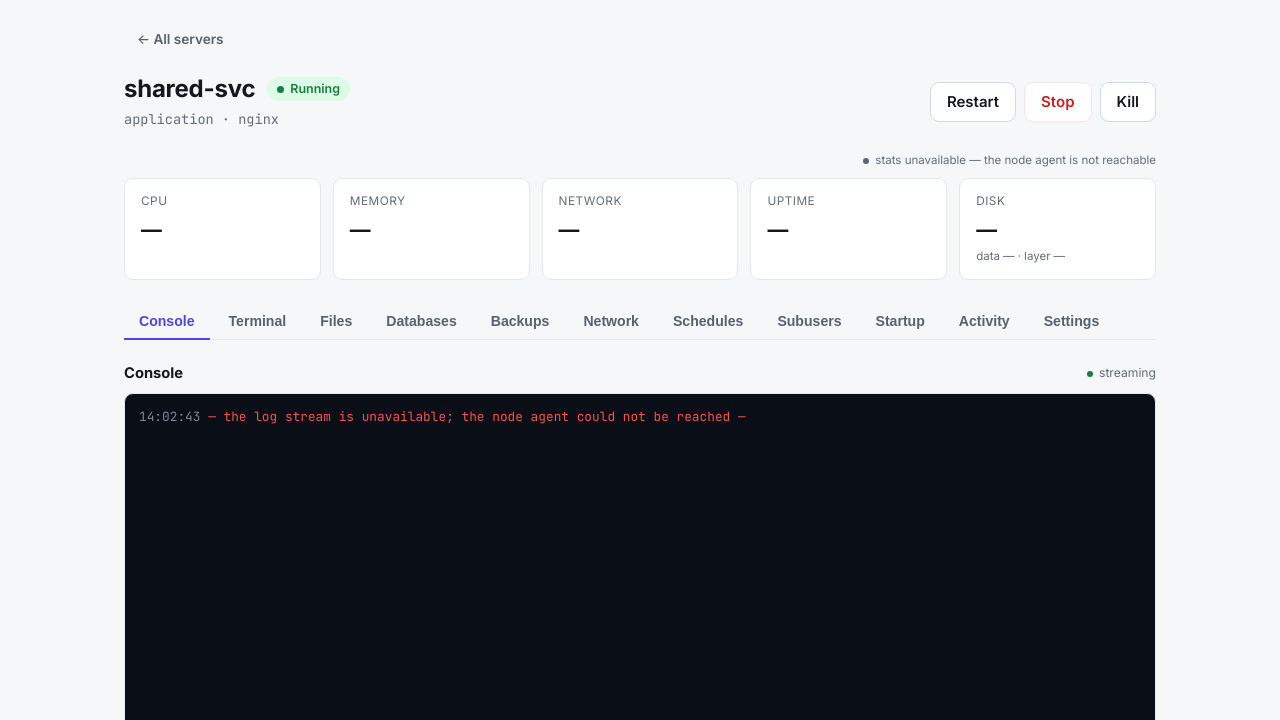
ServerDetail Activity tab › says so when nothing has happened yet
Click the button "activity" at x=984, y=322, box [944, 304, 1025, 340]
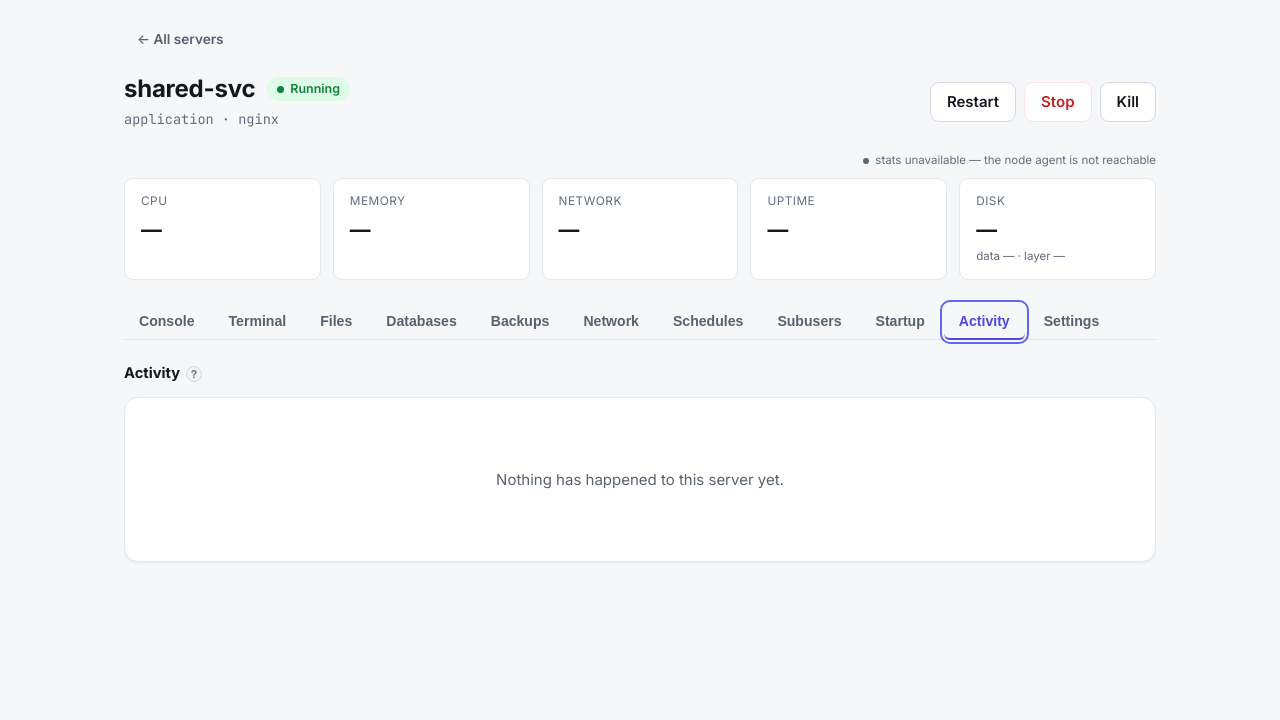
expect the text "Nothing has happened to this server yet." is shown: met, box [496, 470, 784, 489]
